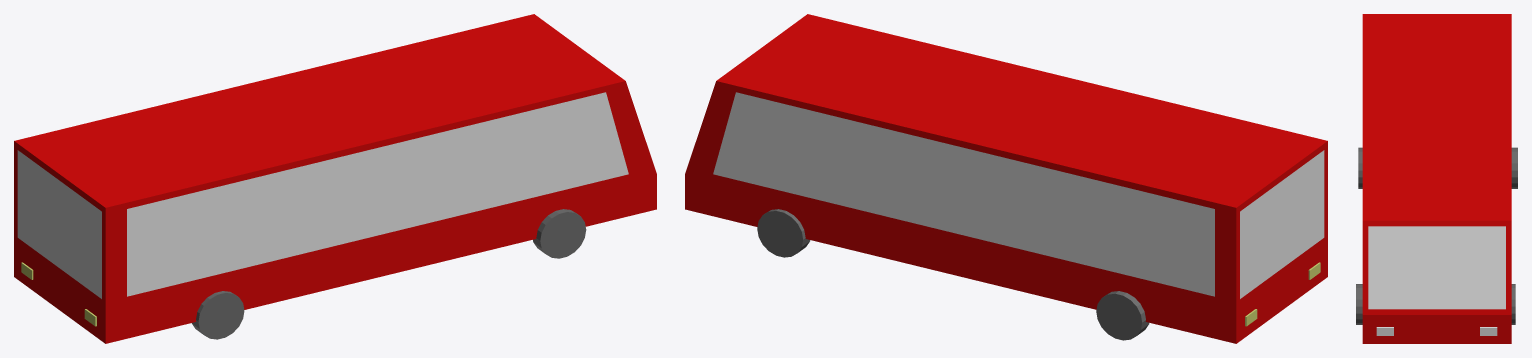
The model's file is Red Bus.fbx.
The picture shows the model from 3 angles, left to right: view 1: azimuth 30°, elevation 25°; view 2: azimuth 150°, elevation 25°; view 3: azimuth 270°, elevation 25°; orthographic projection. The views are drawn at different scales.
Parts seen in each view (by area): view 1: Bus; view 2: Bus; view 3: Bus.
Part boxes in pixels (x1,y1,x2,y2): Bus: [14, 14, 656, 343]; Bus: [685, 14, 1327, 343]; Bus: [1356, 14, 1517, 343].
Size of the model in its own units: 18207 by 4935 by 5634.
